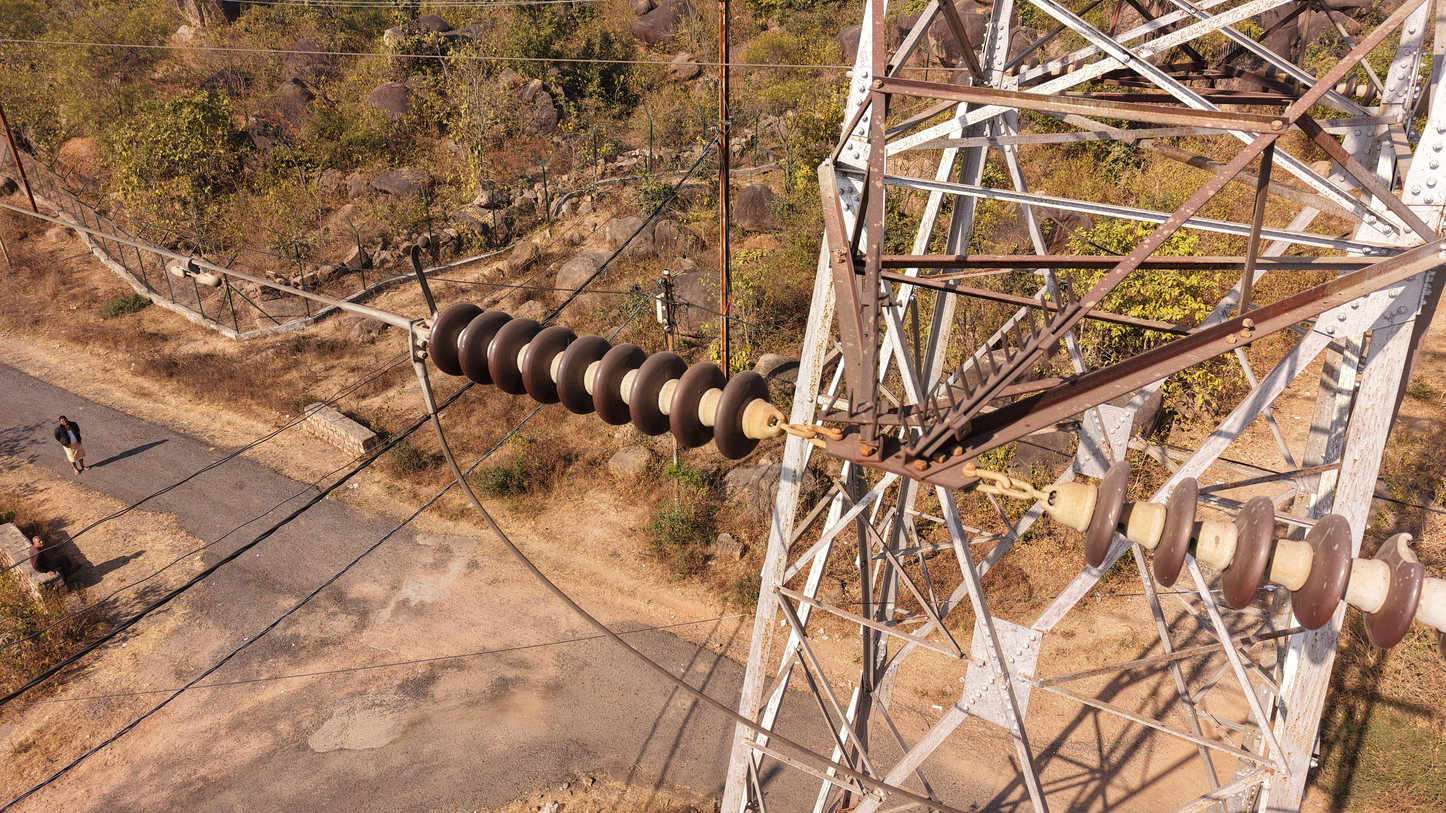broken_insulator: (1356, 526, 1446, 650)
